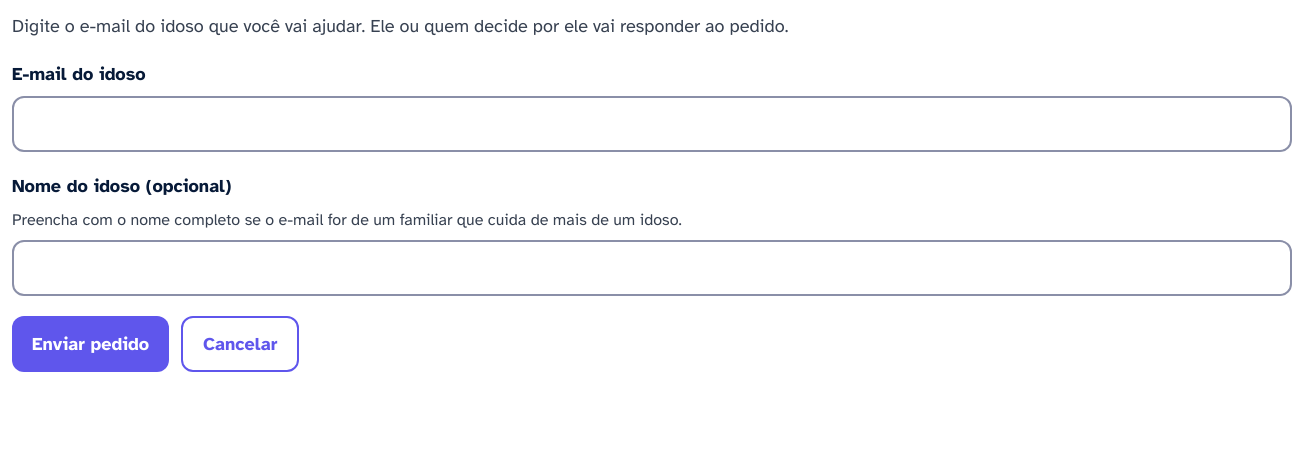
it: SolicitarVinculo › 404 mostra a mensagem genérica do backend como veio, sem enriquecer
Step 1. Type "idoso.teste@exemplo.test" into the field labelled "E-mail do idoso" → [652, 124], box [12,96,1292,152]
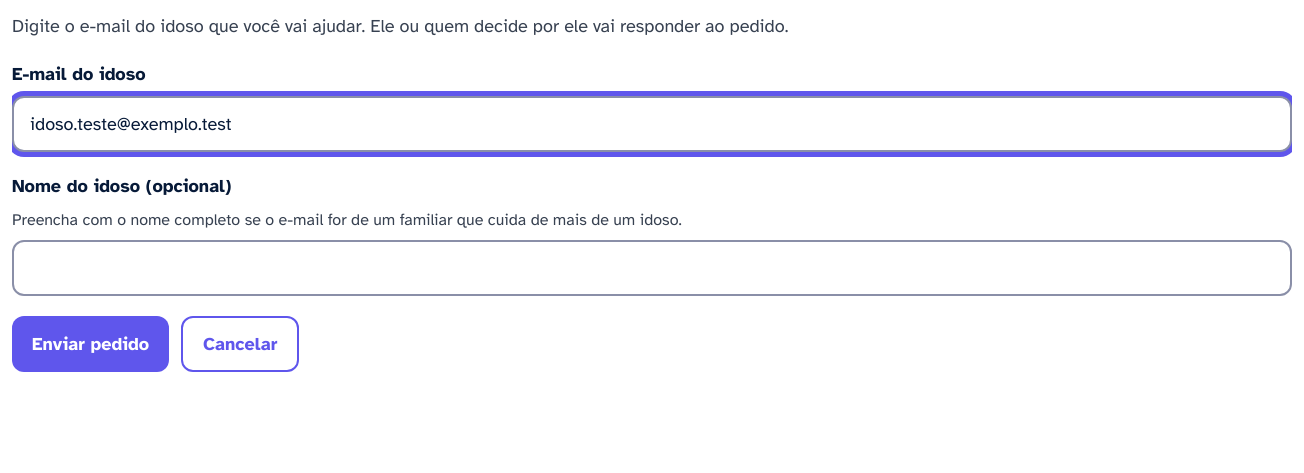
Step 2. Click the button "Enviar pedido" → [90, 344], box [12,316,169,372]
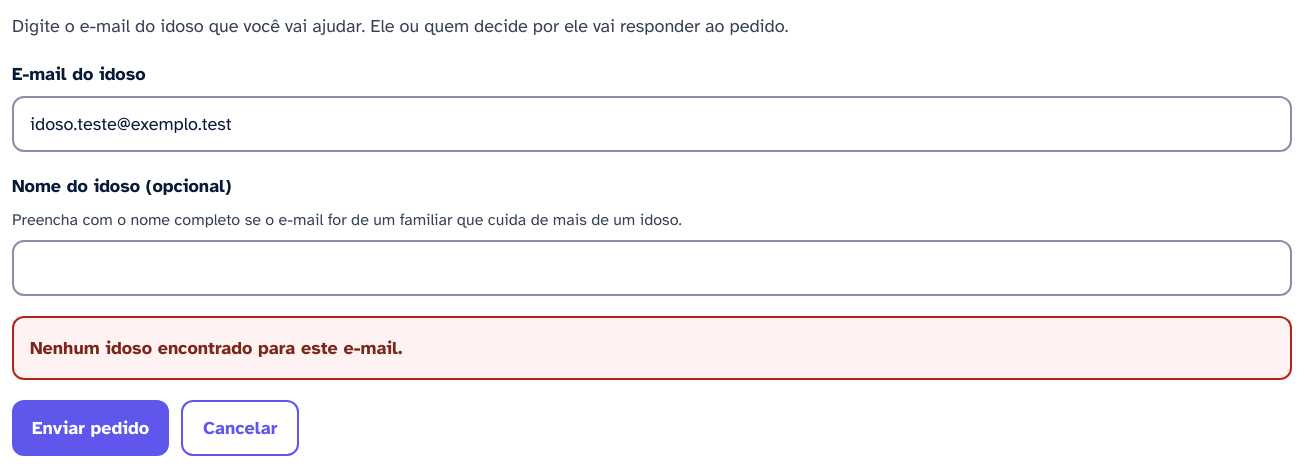
Expected: the message reads "Nenhum idoso encontrado para este e-mail.", [30,337,402,359]
